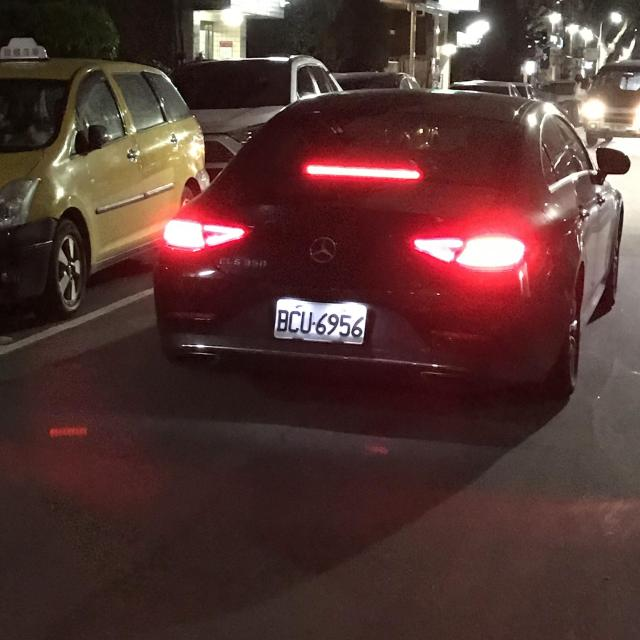W: (268, 285, 371, 353)
